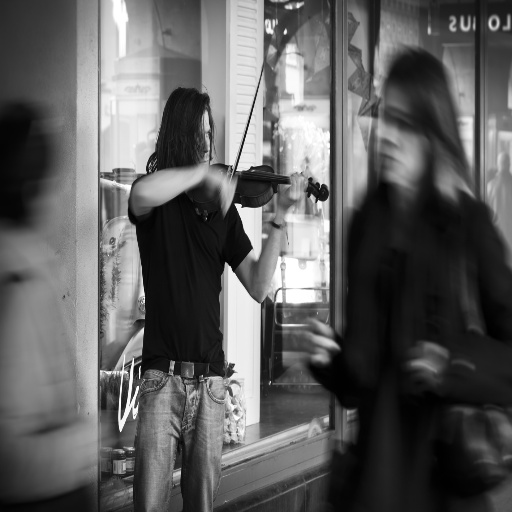hand: (200, 167, 236, 212), (277, 171, 306, 212)
